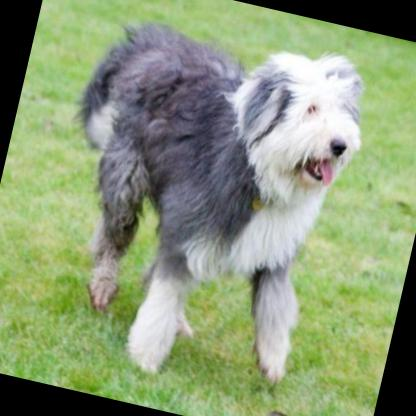Old_English_sheepdog: (18, 0, 382, 411)
